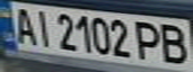0: (90, 14, 112, 56)
1: (72, 12, 93, 53)
2: (109, 16, 133, 60), (51, 10, 75, 52)
A: (9, 3, 39, 45)
B: (157, 20, 193, 65)
I: (30, 7, 57, 47)
P: (133, 18, 166, 62)
